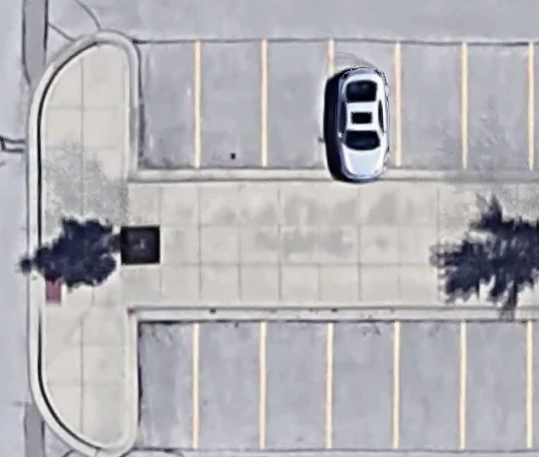Occupied: (331, 39, 399, 169)
Vacant: (464, 41, 533, 171), (198, 41, 266, 171), (264, 40, 332, 170), (262, 321, 331, 448), (462, 321, 530, 449), (135, 38, 198, 176), (399, 41, 465, 171), (396, 320, 462, 450), (196, 320, 263, 448), (330, 321, 396, 448), (134, 320, 196, 449)
